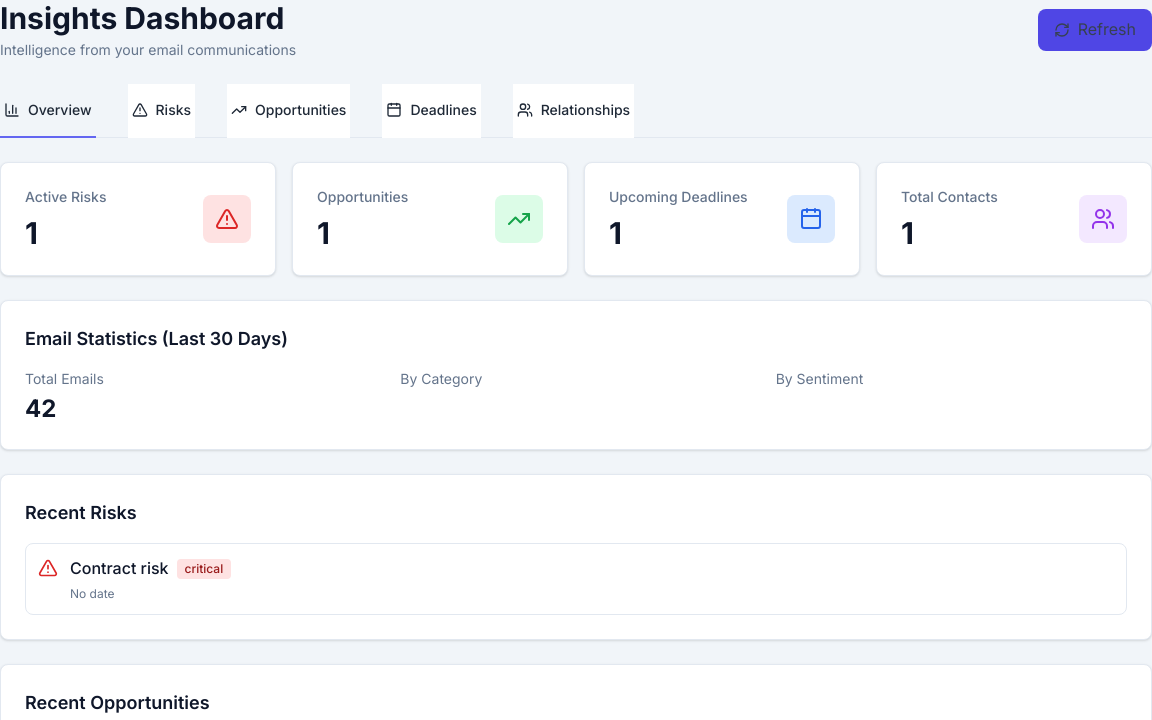
Test: Insights Dashboard › retains the last successful data and selected tab when getAnalytics fails during refresh
Expected: the heading "Recent Risks" is shown, [25,502,137,523]
Click the button "Risks" at x=161, y=111, box [128,84,195,138]
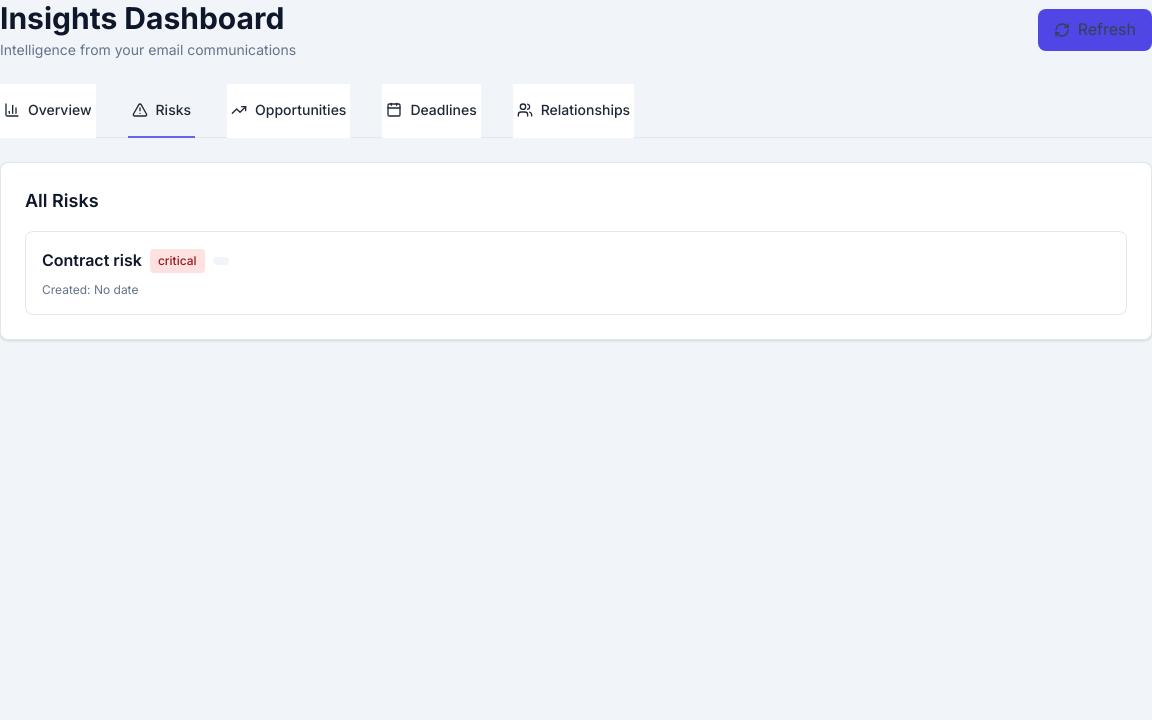
Click the button "Refresh" at x=1095, y=30, box [1038,9,1151,51]
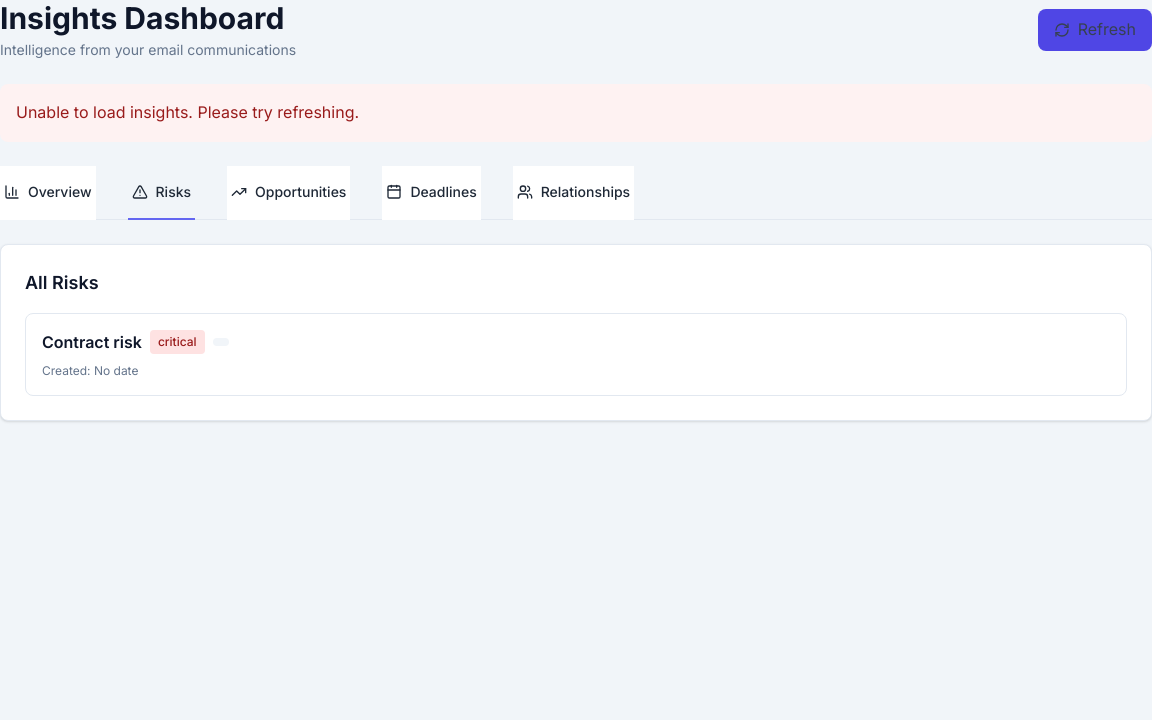
Expected: the heading "Contract risk" is shown, [42,330,142,355]
Result: the heading "All Risks" is shown at [25,272,98,293]
Result: the message shows "Unable to load insights" at [16,102,359,122]
Click the button "Refresh" at x=1095, y=30, box [1038,9,1151,51]
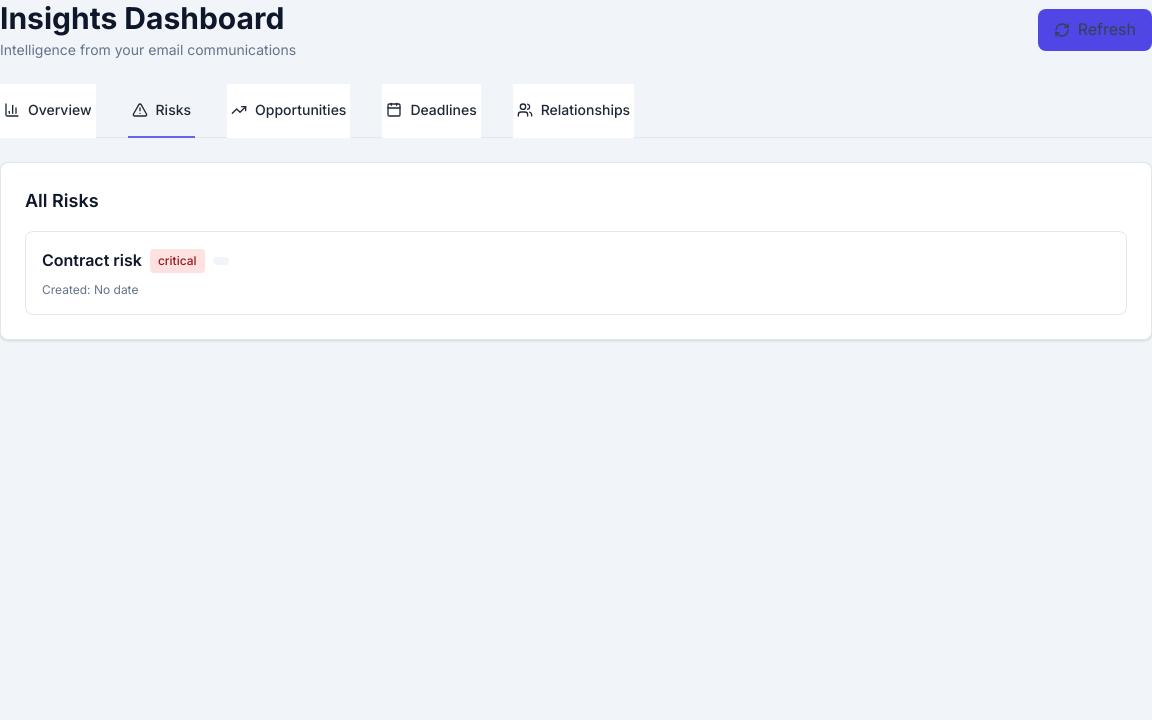
Result: the heading "All Risks" is shown at [25,190,98,211]
Result: the message "Unable to load insights. Please try refreshing." is gone
